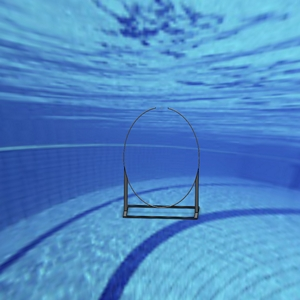circle: (121, 104, 201, 220)
